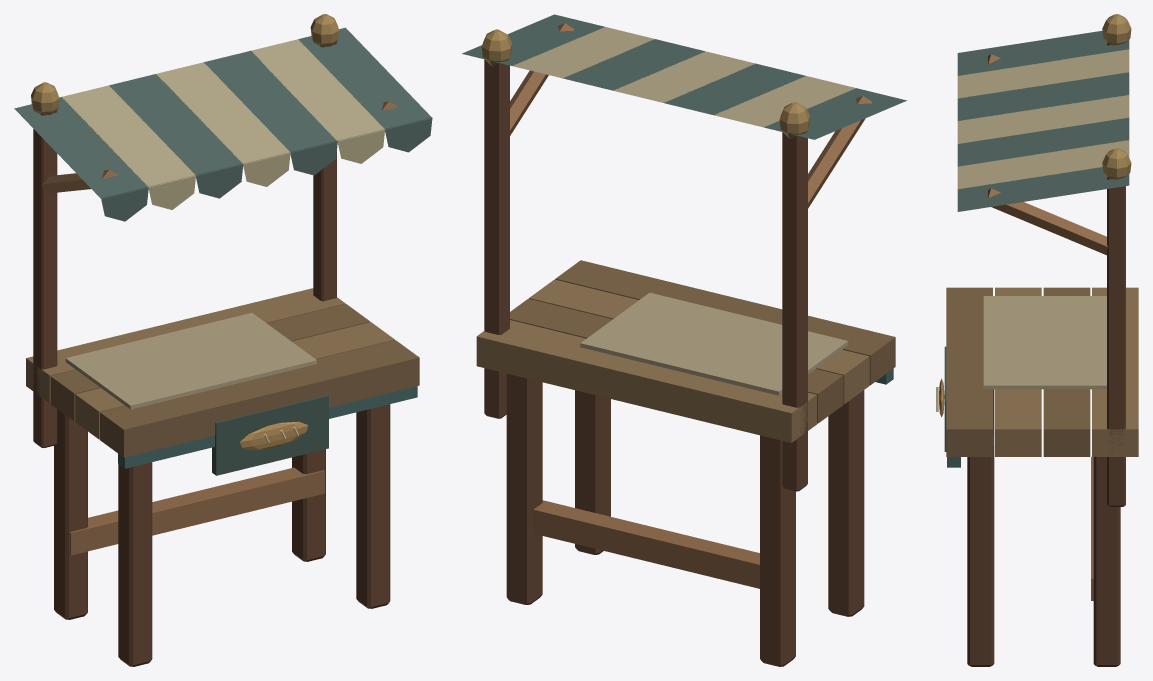
Rendered from bread_stall.glb.
3 renders of one model, left to right at view 1: azimuth 30°, elevation 25°; view 2: azimuth 150°, elevation 25°; view 3: azimuth 270°, elevation 25°, orthographic. The views are drawn at different scales.
Visible parts, largest first — view 1: bread_stall; view 2: bread_stall; view 3: bread_stall.
Part boxes in pixels (x1=…): bread_stall: x1=14, y1=14, x2=432, y2=666; bread_stall: x1=462, y1=14, x2=906, y2=666; bread_stall: x1=936, y1=14, x2=1138, y2=666.
Size of the model in its own units: 1.03 by 1.58 by 0.555.
